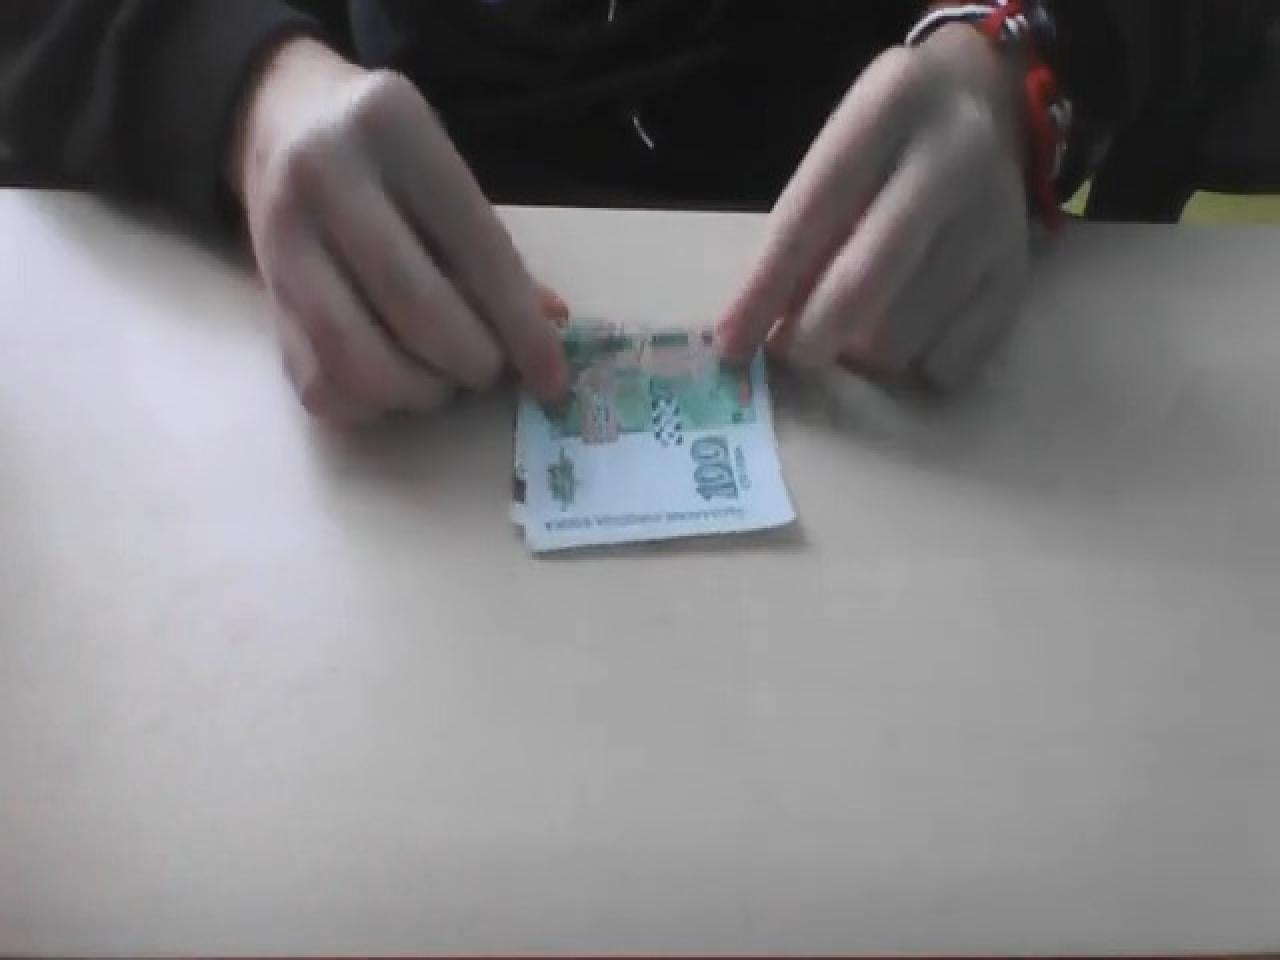100leva: (512, 323, 798, 558)
